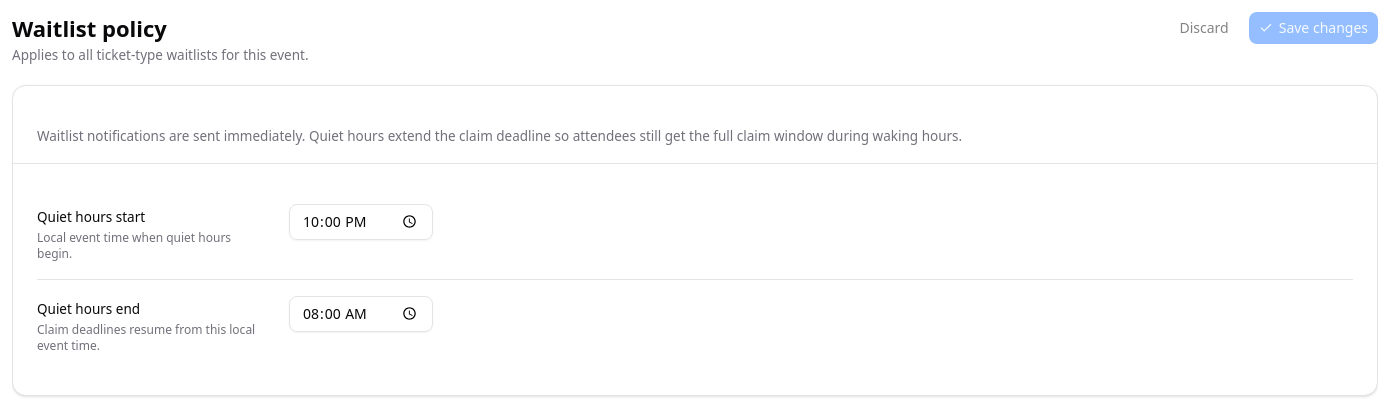
Test: WaitlistPolicyForm › enables Save changes only once a field is edited
Expected: the button "Save changes" is disabled, [1249,12,1378,44]
Step 1. Replace the text in the time field next to "Local event time when quiet hours begin." with "23:00" → (361, 222), box [289,204,433,240]
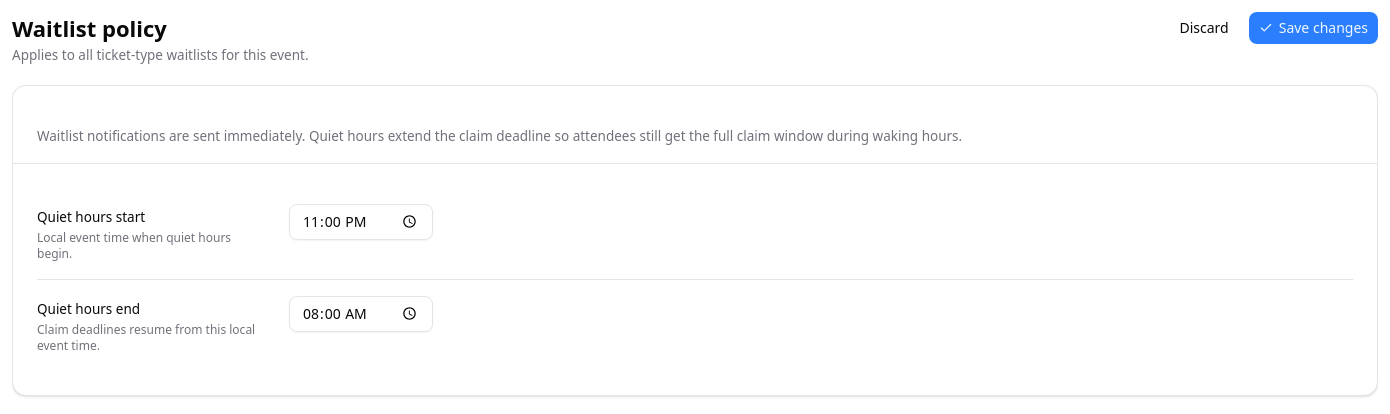
Expected: the button "Save changes" is enabled, [1249,12,1378,44]
